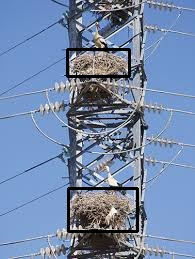bird-nest: (69, 192, 132, 226), (70, 52, 133, 77)
